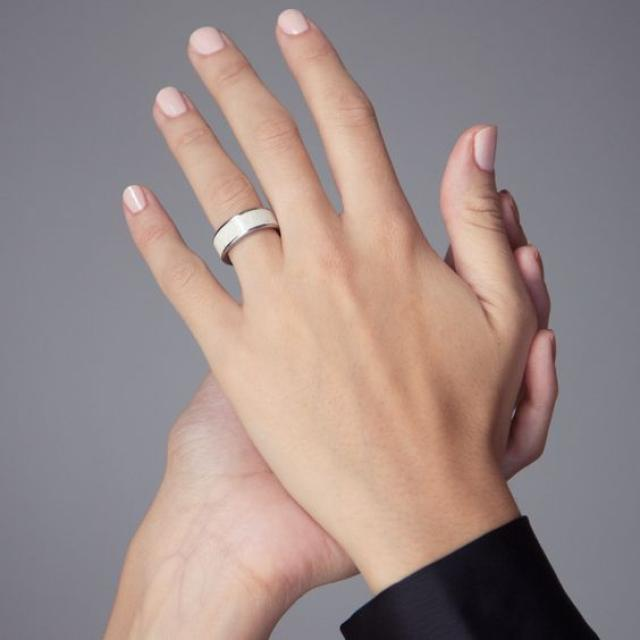Fingernail: (475, 126, 497, 174), (190, 26, 226, 53), (157, 86, 188, 117), (278, 7, 310, 36), (121, 184, 146, 213)
